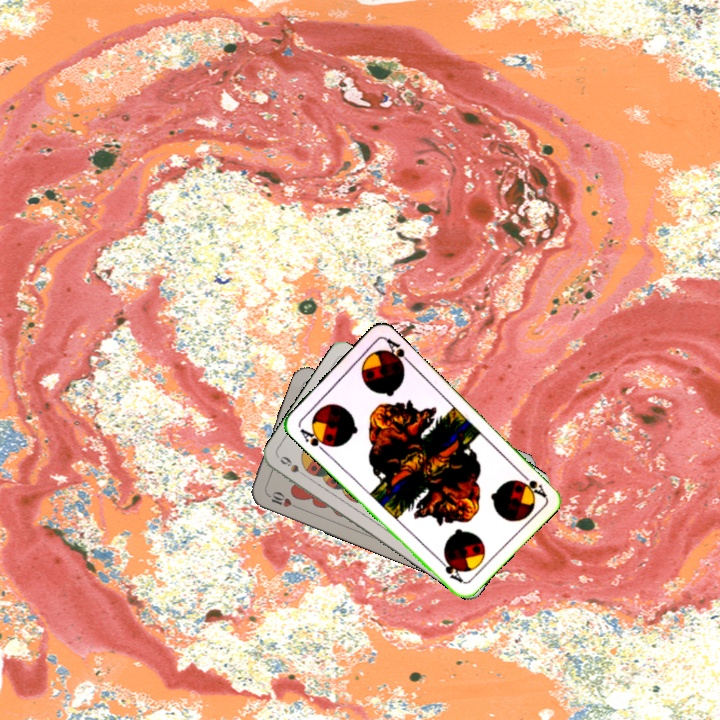H10: (262, 487, 301, 511)
S9: (276, 452, 311, 481)
SA: (513, 467, 549, 500), (295, 423, 332, 455)
